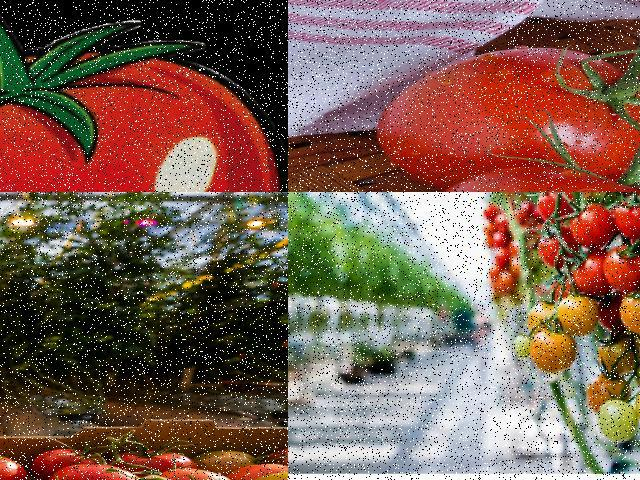tomato: (376, 43, 639, 186), (0, 60, 287, 191), (112, 447, 194, 476), (20, 448, 107, 474), (565, 212, 616, 250), (606, 245, 639, 293), (611, 192, 639, 248), (45, 466, 141, 479), (0, 453, 27, 479), (150, 472, 239, 479), (230, 466, 280, 472)
